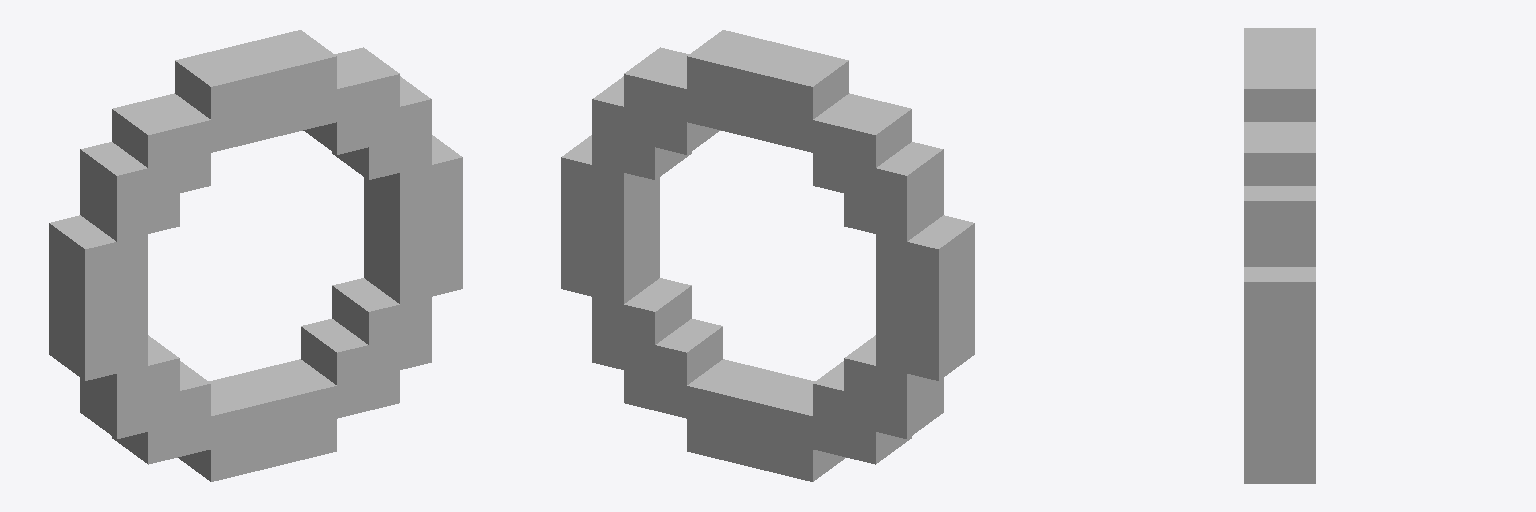
The model's file is Bot -7.obj.
3 views of the same model, side by side, from view 1: azimuth 30°, elevation 25°; view 2: azimuth 150°, elevation 25°; view 3: azimuth 270°, elevation 25° (orthographic).
Visible parts, largest first — view 1: Bot -7; view 2: Bot -7; view 3: Bot -7.
Part boxes in pixels (left/top/right/bottom): Bot -7: left=49, top=30, right=462, bottom=481; Bot -7: left=561, top=30, right=974, bottom=481; Bot -7: left=1244, top=28, right=1315, bottom=483.
Size of the model in its own units: 12 by 12 by 2.